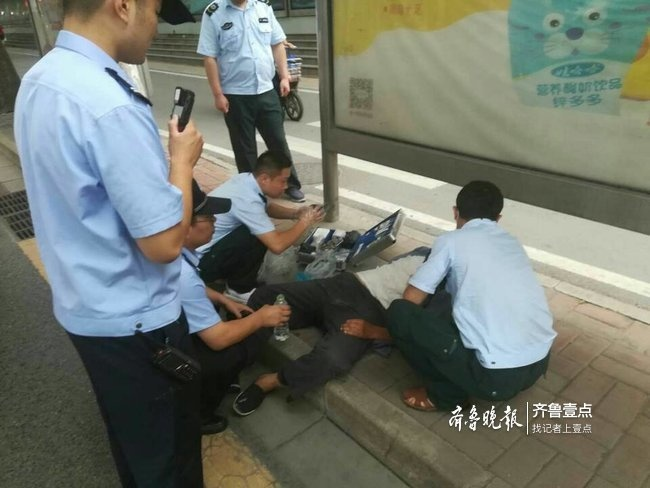falling: (224, 233, 443, 408)
